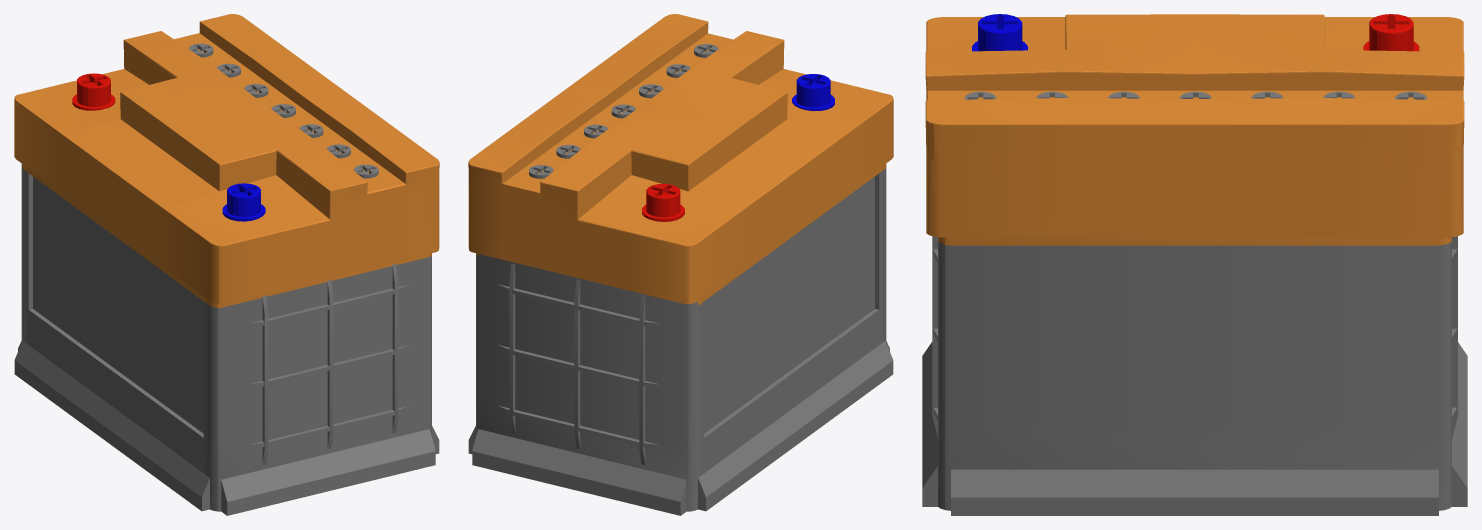
The model's file is acum.fbx.
3 renders of one model, left to right at view 1: azimuth 30°, elevation 25°; view 2: azimuth 150°, elevation 25°; view 3: azimuth 270°, elevation 25°, orthographic. The views are drawn at different scales.
Parts seen in each view (by area): view 1: g Box022; view 2: g Box022; view 3: g Box022.
Part boxes in pixels (bbox=[...]): g Box022: bbox=[14, 14, 439, 515]; g Box022: bbox=[468, 14, 893, 515]; g Box022: bbox=[922, 14, 1467, 515].
Bounding box in the file's own units: 131 × 159 × 200.
